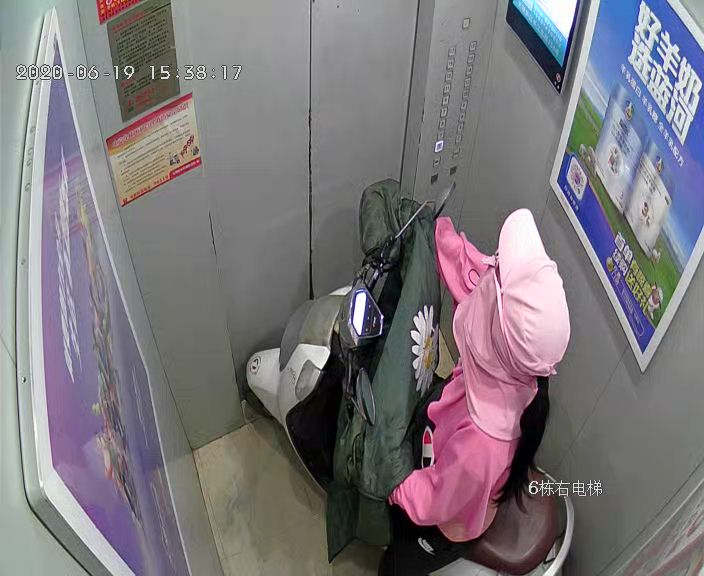Electric-bicycle: (244, 182, 568, 574)
